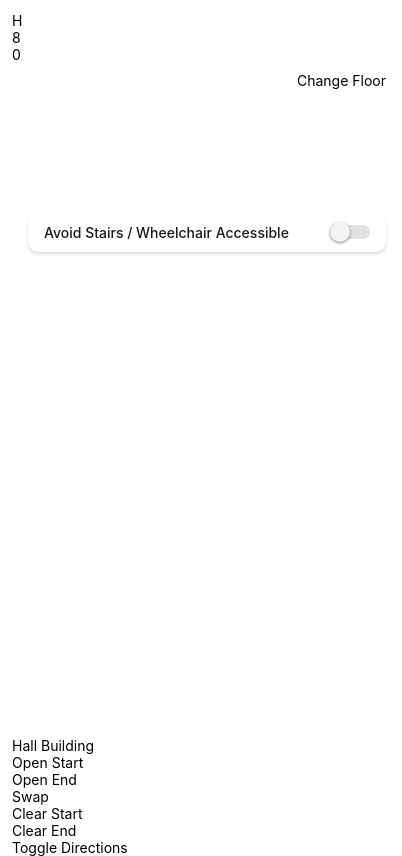
IndoorNavigation › loads indoor data and draws a route after selecting start and end rooms
The image size is (402, 856).
Click the element with test id "open-start": (48, 762) [12,754,83,771]
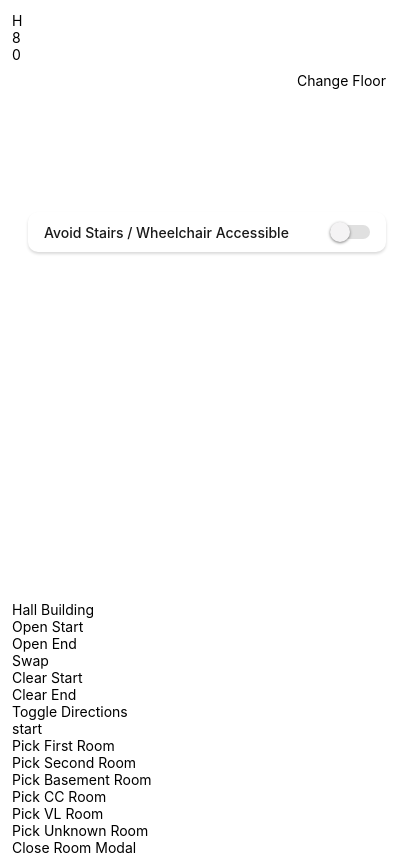
Click the element with test id "pick-room-first": (63, 746) [12,737,115,754]
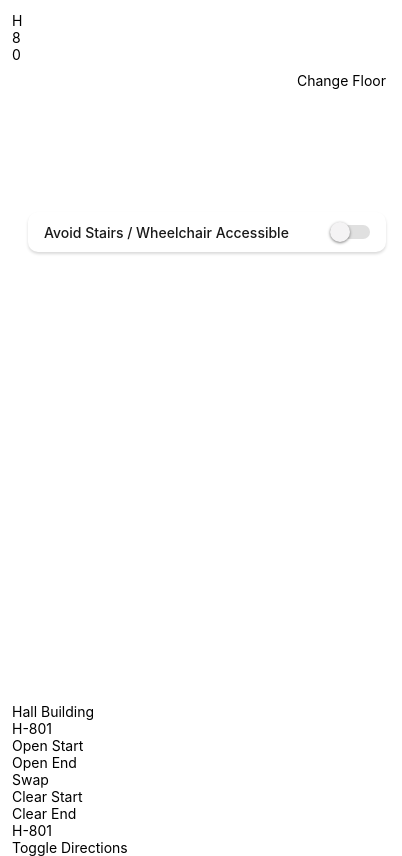
Click the element with test id "open-end": (44, 762) [12,754,77,771]
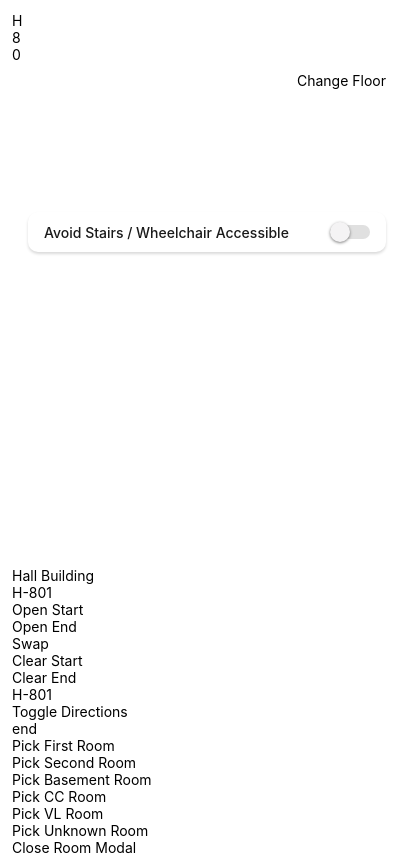
Click the element with test id "pick-room-second": (74, 762) [12,754,136,771]
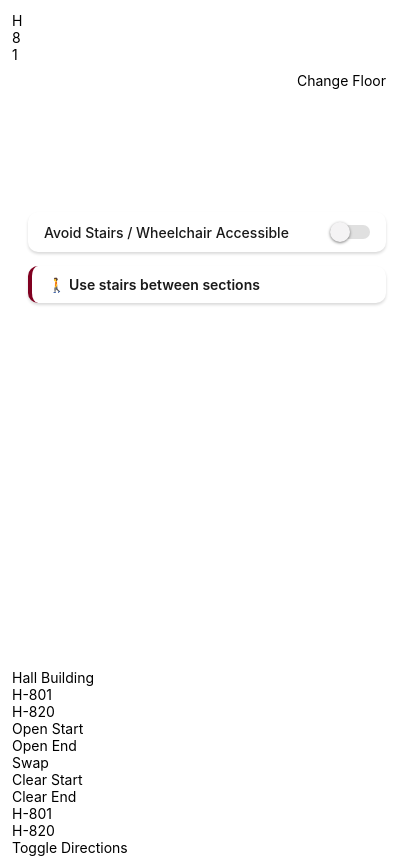
Check: the text with test id "route-point-count" reads "1", box [12,46,18,63]
Check: the text "🚶 Use stairs between sections" is shown, box [48,276,260,293]
